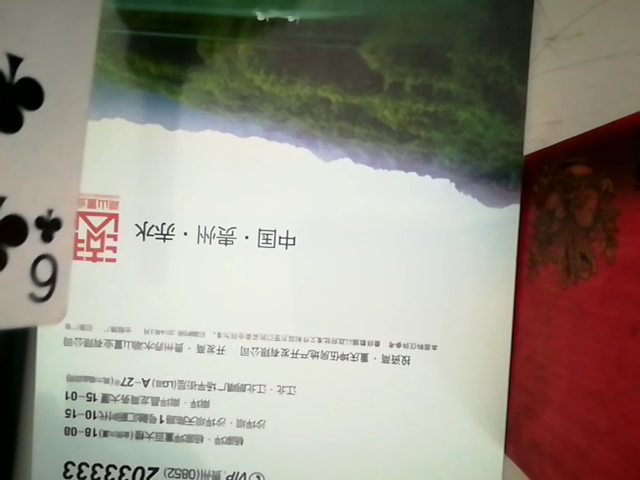mh 6: (0, 9, 129, 238)
